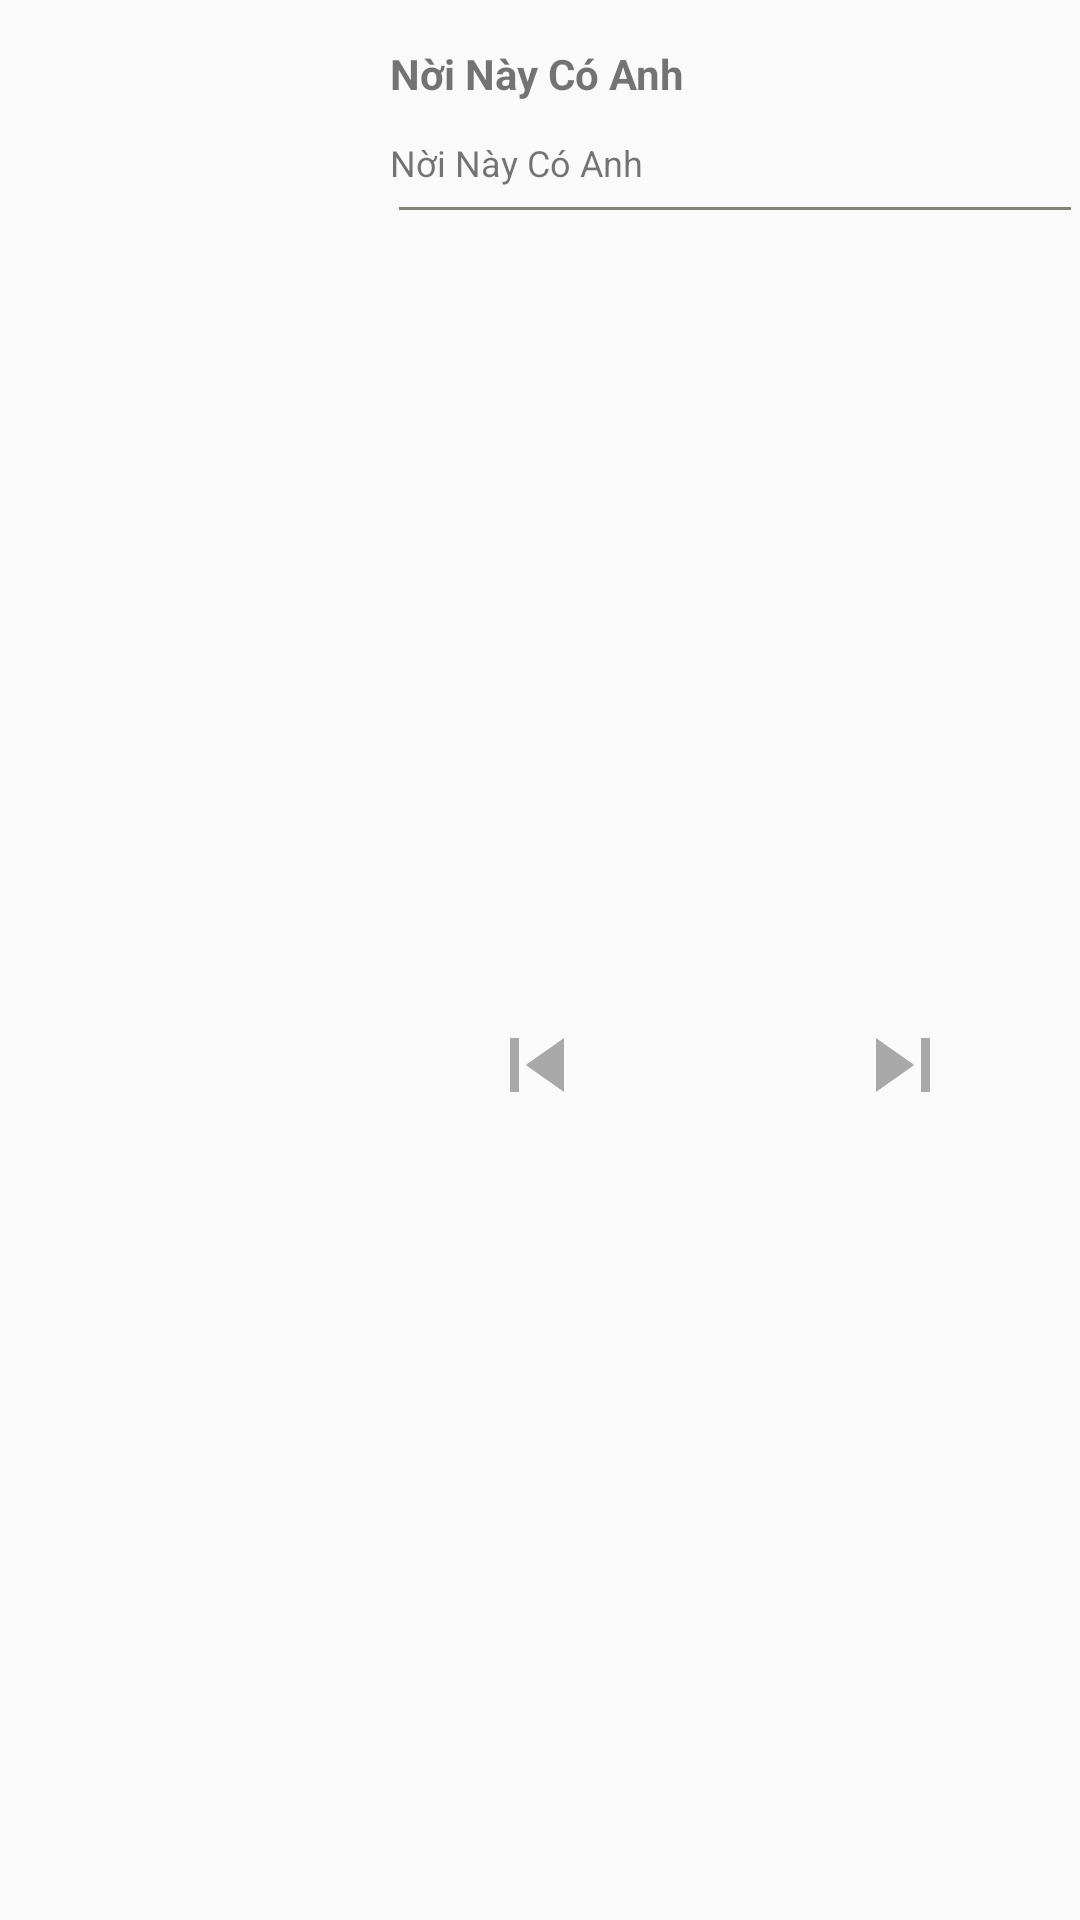

Where to tap for icons on this 1080x1920 app screen, as [x,y]:
skip next bkav: [903,1065]
skip previous bkav: [537,1065]
